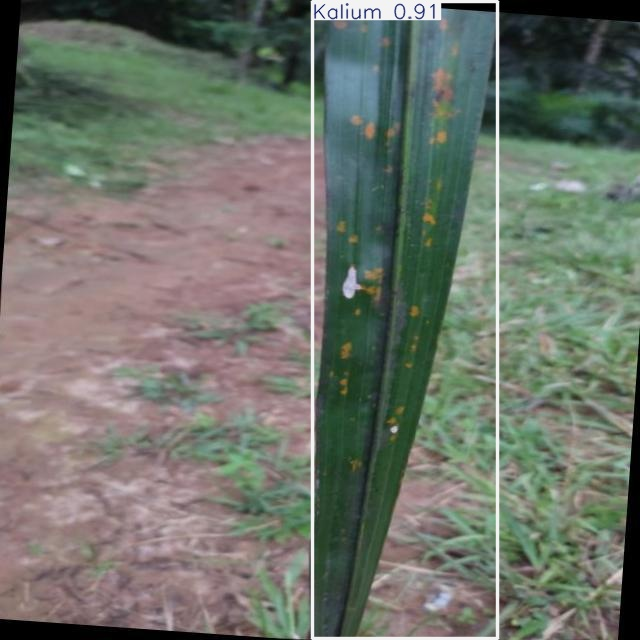Kalium: (312, 1, 498, 639)
